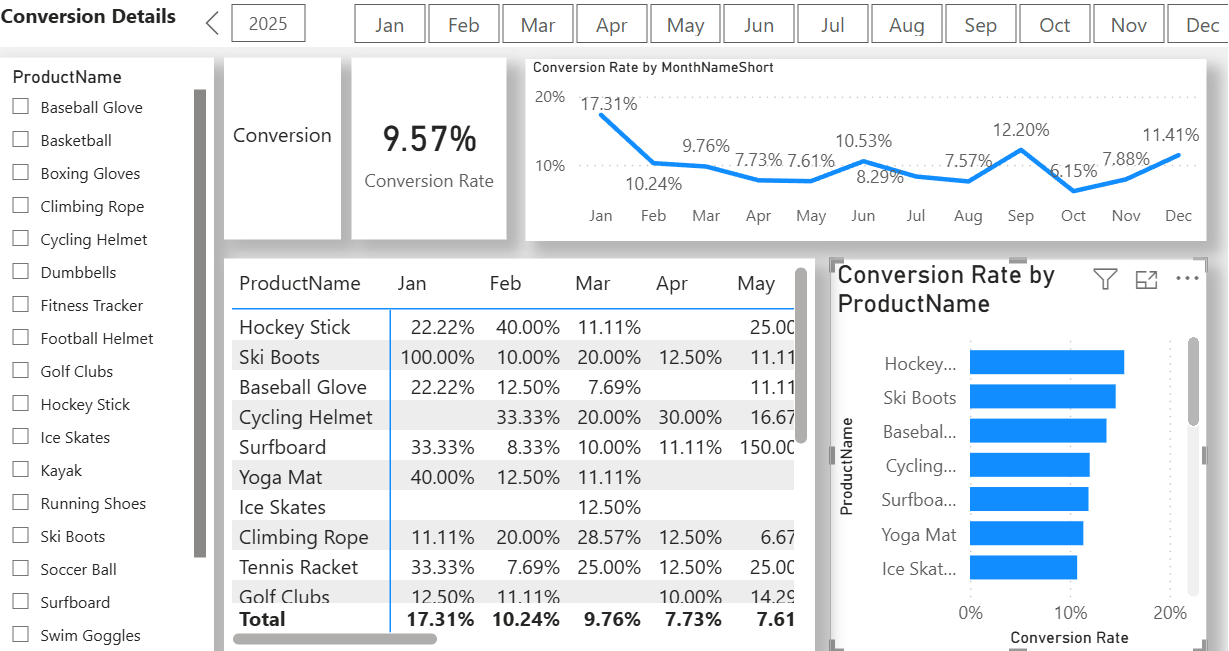

What the dashboard file says about the page in this screenshot:
{"tool":"powerbi","page":{"name":"Conversion Details ","canvas":[1280,720],"ordinal":1},"visuals":[{"type":"textbox","box":[0,0,1021,36],"z":0},{"type":"slicer","fields":{"Values":["products.ProductName"]},"box":[0,43,147,397],"z":1000},{"type":"textbox","box":[154,43,78,121],"z":2000},{"type":"card","fields":{"Values":["Calculations.Conversion Rate"]},"box":[239,43,103,121],"z":5000},{"type":"slicer","fields":{"Values":["Calender.Date.Variation.Date Hierarchy.Year"]},"box":[133,0,99,36],"z":10000},{"type":"lineChart","fields":{"Y":["Calculations.Conversion Rate"],"Category":["Calender.MonthNameShort"]},"box":[355,44,454,121],"z":12000},{"type":"clusteredBarChart","fields":{"Category":["products.ProductName"],"Y":["Calculations.Conversion Rate"]},"box":[558,177,251,263],"z":12001},{"type":"pivotTable","fields":{"Values":["Calculations.Conversion Rate"],"Rows":["products.ProductName"],"Columns":["Calender.MonthNameShort"]},"box":[154,177,394,263],"z":12002},{"type":"slicer","fields":{"Values":["Calender.MonthNameShort"]},"box":[215,0,639,36],"z":12003}]}

Visuals, with their boxes on the page's 1280x720 design canvas (x1, y1, x2, y2). These are canvas units, not pixel positions in the 1229x651 screenshot, which may show the page scaled, cropped or inside an application window:
textbox: [x1=0, y1=0, x2=1021, y2=36]
slicer - products.ProductName: [x1=0, y1=43, x2=147, y2=440]
textbox: [x1=154, y1=43, x2=232, y2=164]
card - Calculations.Conversion Rate: [x1=239, y1=43, x2=342, y2=164]
slicer - Calender.Date.Variation.Date Hierarchy.Year: [x1=133, y1=0, x2=232, y2=36]
lineChart - Calculations.Conversion Rate x Calender.MonthNameShort: [x1=355, y1=44, x2=809, y2=165]
clusteredBarChart - products.ProductName x Calculations.Conversion Rate: [x1=558, y1=177, x2=809, y2=440]
pivotTable - Calculations.Conversion Rate x products.ProductName: [x1=154, y1=177, x2=548, y2=440]
slicer - Calender.MonthNameShort: [x1=215, y1=0, x2=854, y2=36]
